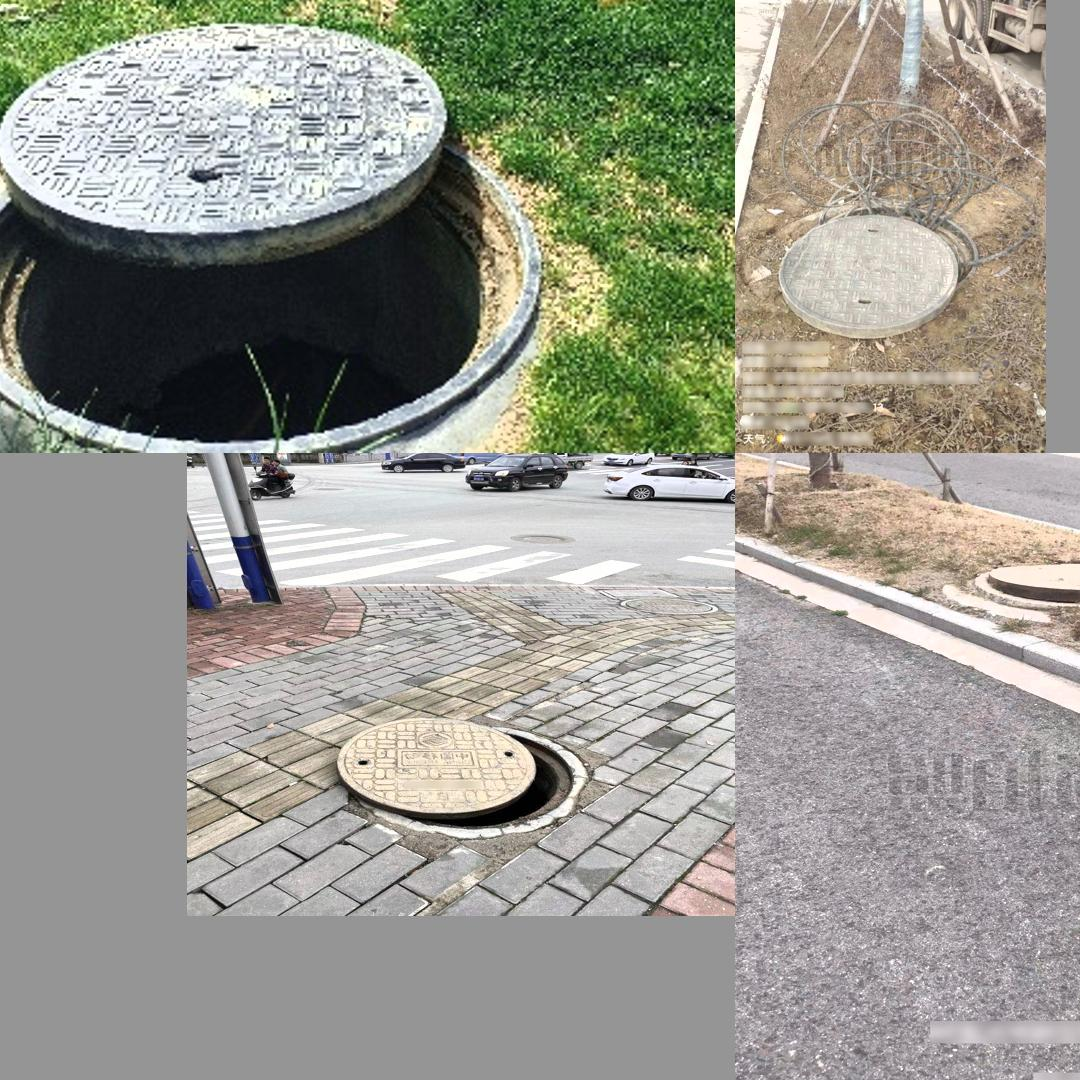uncovered: (0, 23, 543, 448), (335, 717, 588, 838), (778, 201, 976, 336), (977, 561, 1080, 607)
